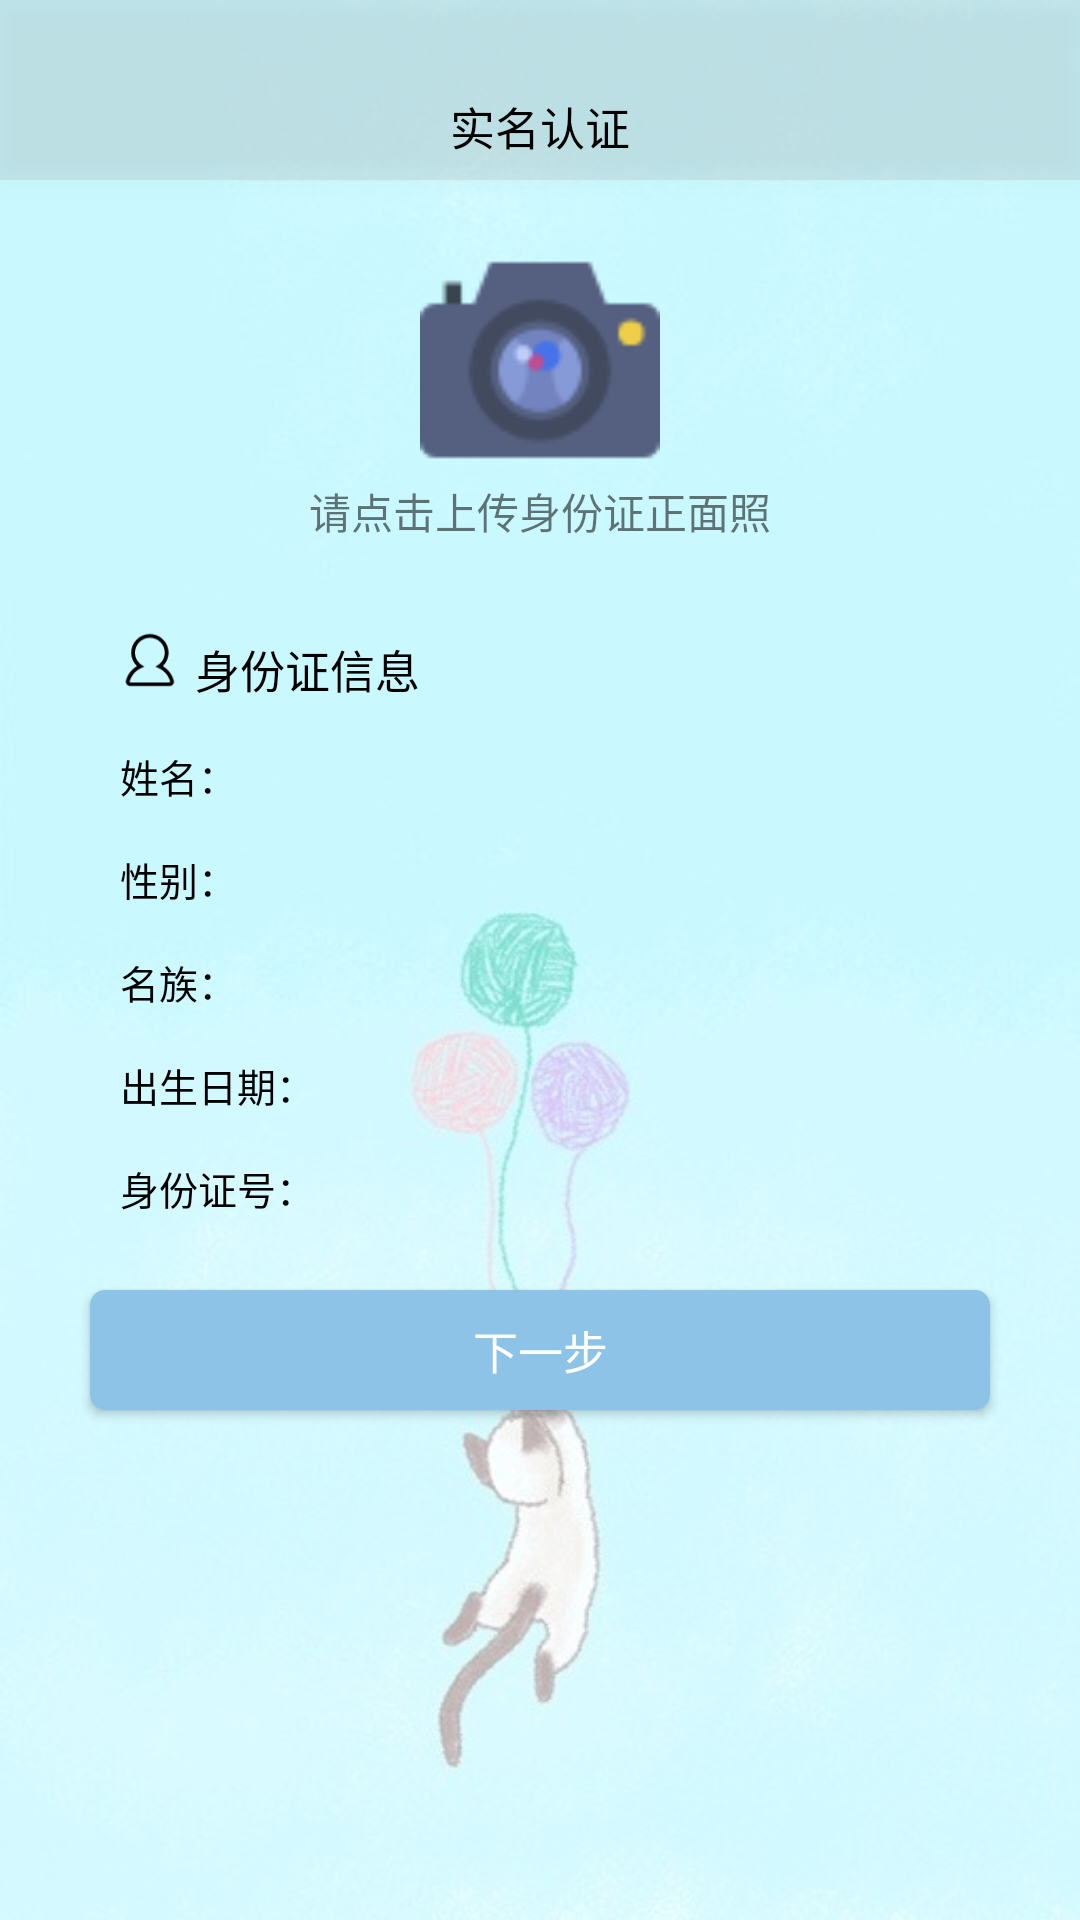

Locate icon controls on the screen. Image size 1080px x 1920px, boxes as BBox(x1, y1, x2, y2).
cammer: BBox(420, 261, 660, 459)
personal info: BBox(125, 633, 175, 687)
